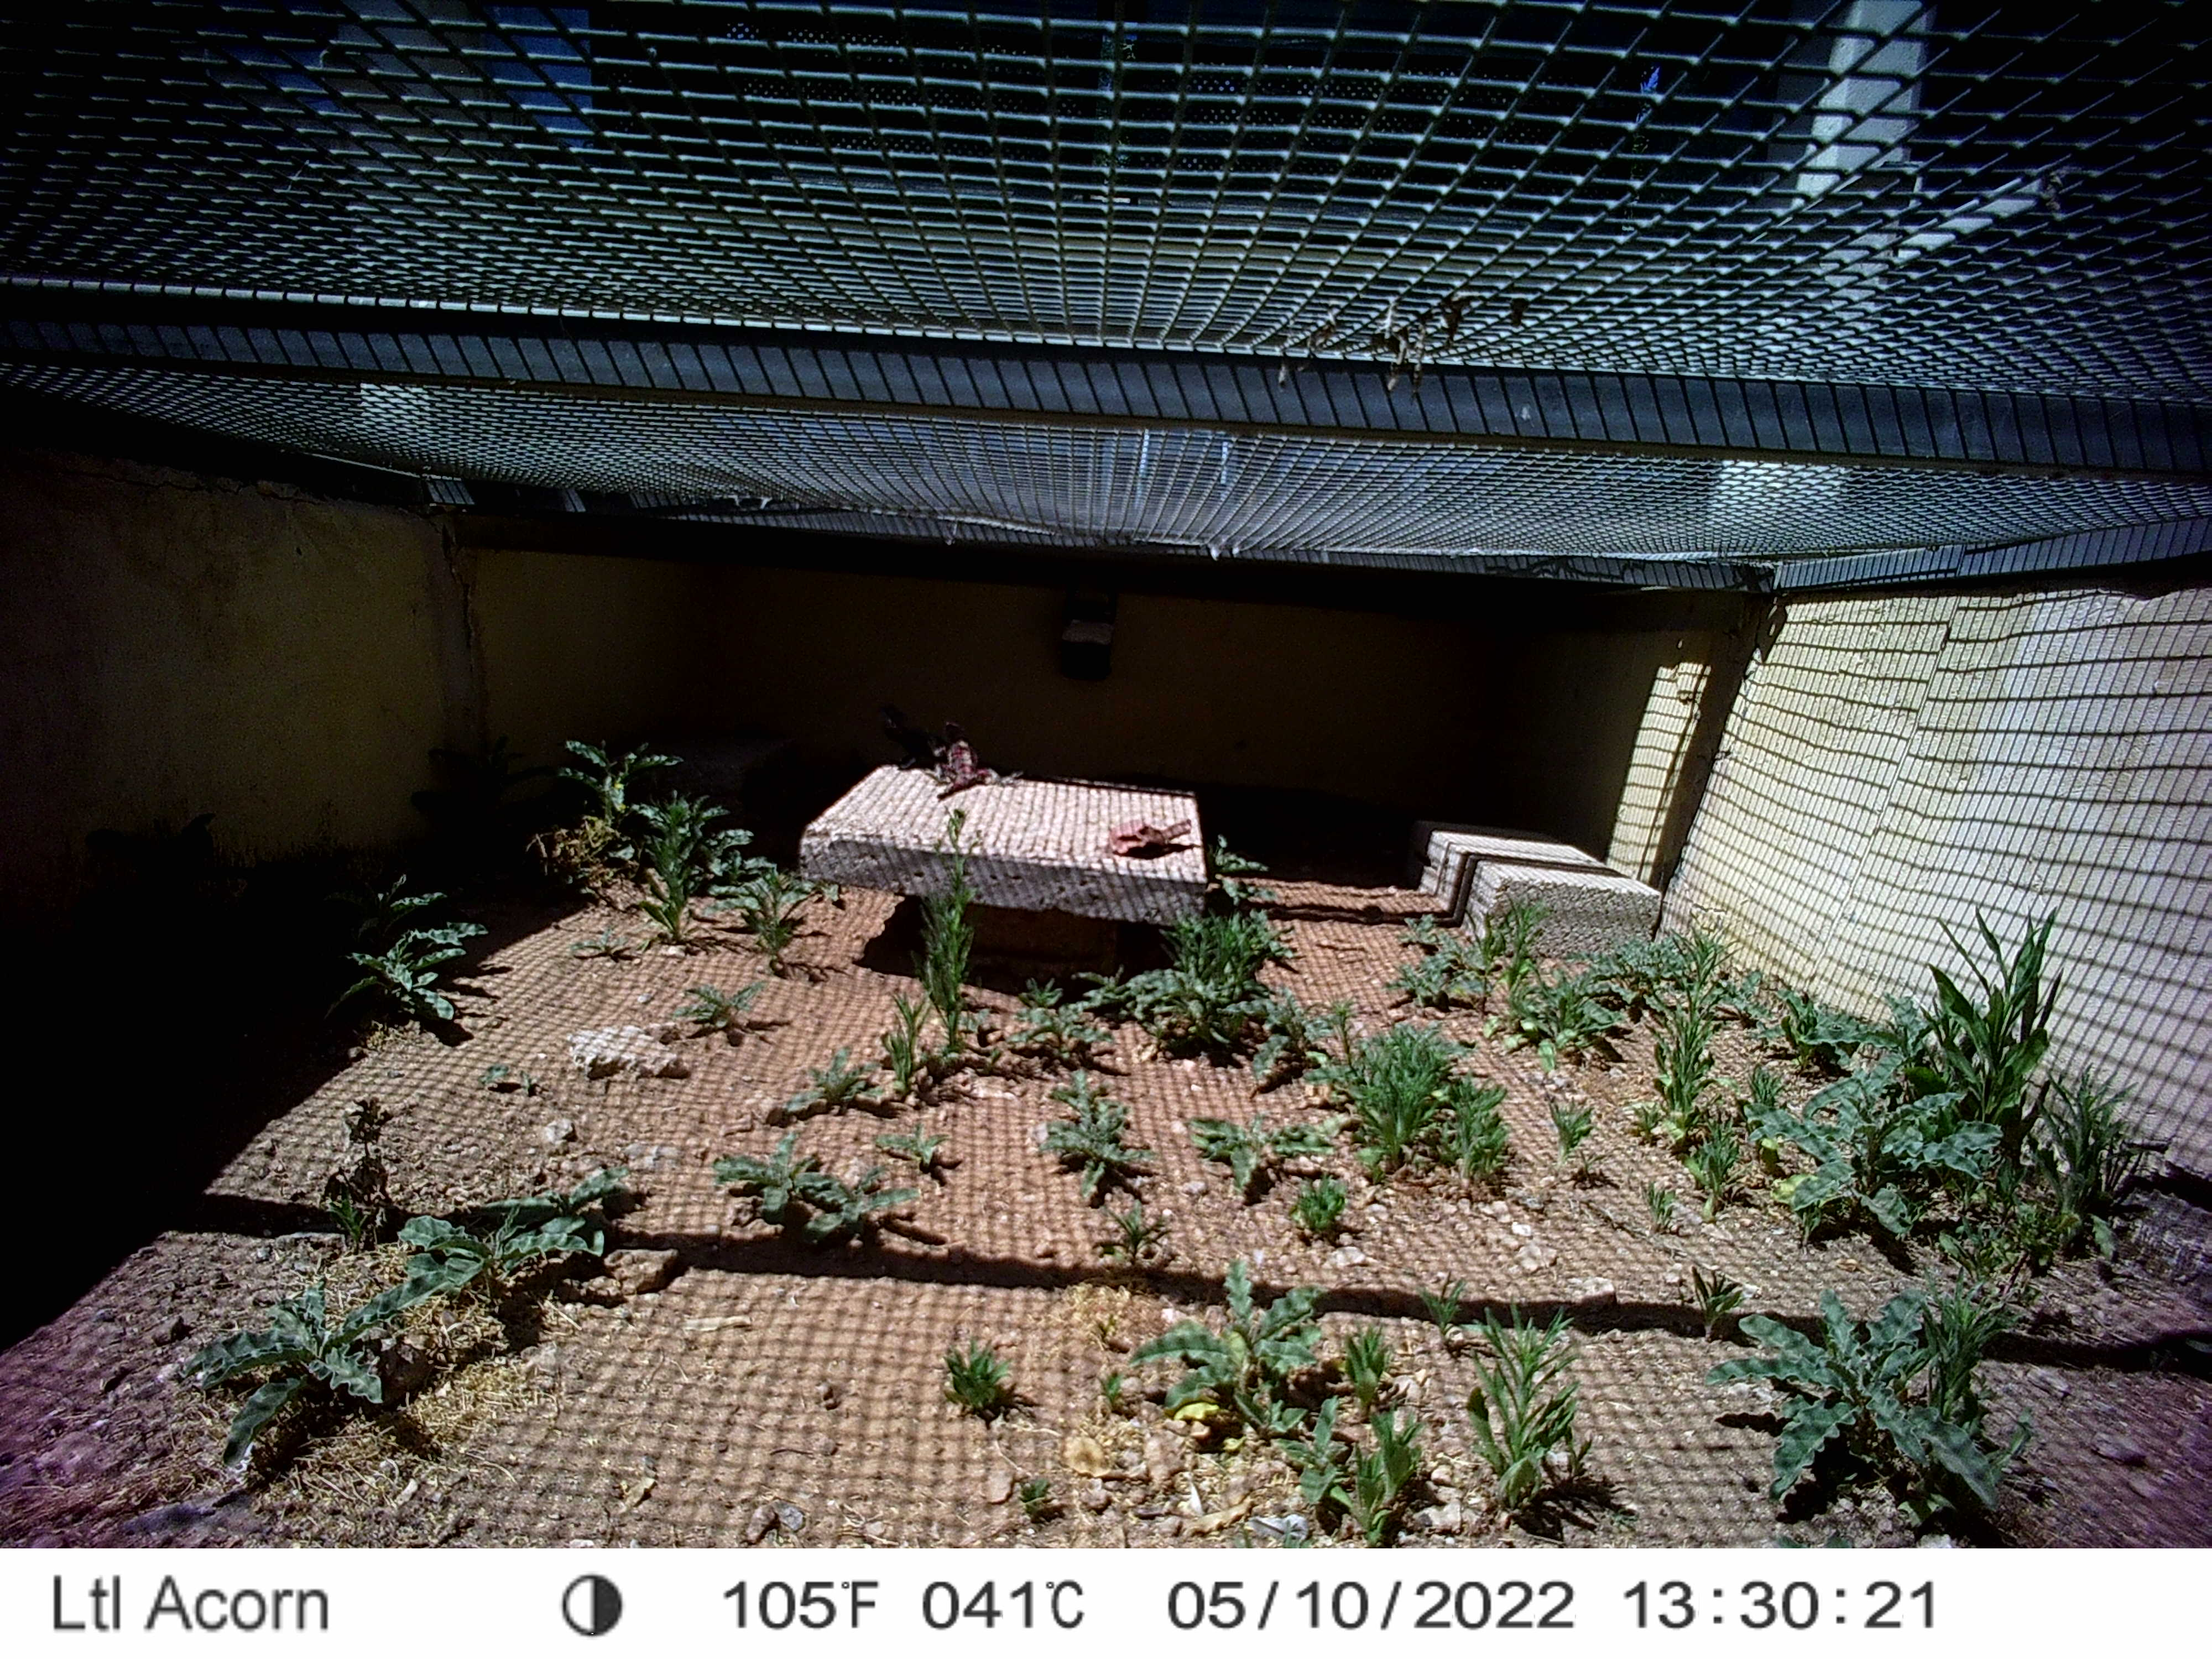lizard: (934, 721, 1007, 798), (881, 709, 930, 770)
